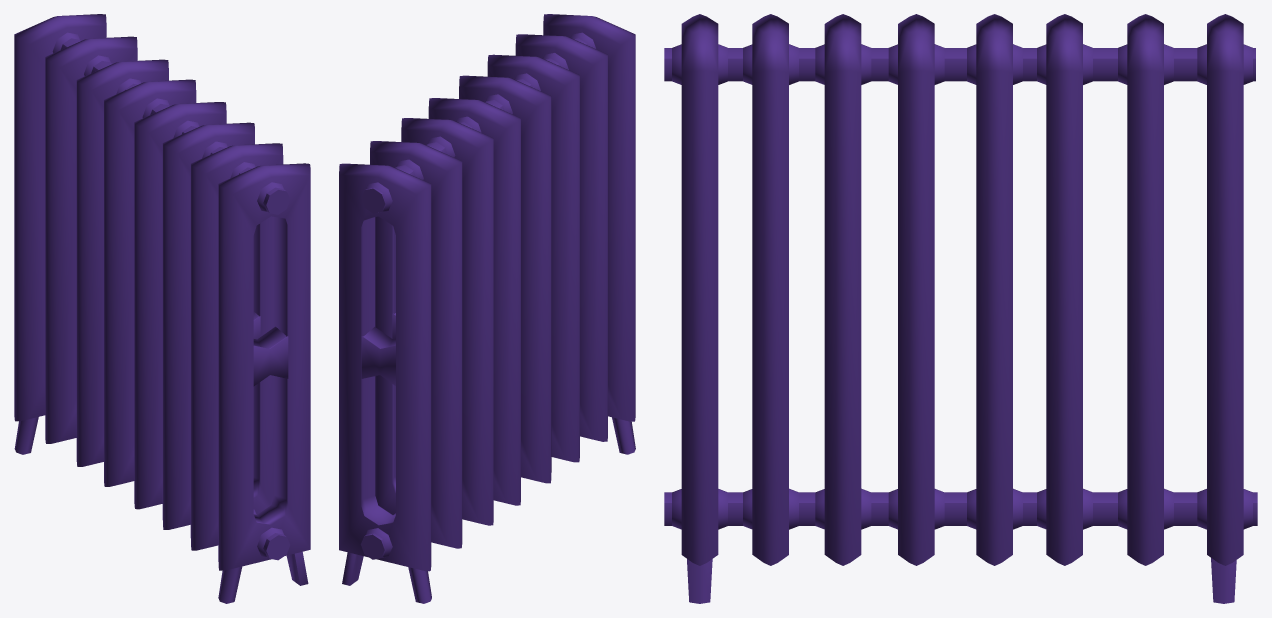
The model's file is heater3_low.fbx.
3 renders of one model, left to right at view 1: azimuth 30°, elevation 25°; view 2: azimuth 150°, elevation 25°; view 3: azimuth 270°, elevation 25°, orthographic. The views are drawn at different scales.
Visible parts, largest first — view 1: heater_final_low; view 2: heater_final_low; view 3: heater_final_low.
Part boxes in pixels (x1,y1,x2,y2): heater_final_low: [14, 14, 310, 603]; heater_final_low: [339, 14, 635, 603]; heater_final_low: [664, 14, 1257, 603].
Size of the model in its own units: 0.1551 by 0.6916 by 0.6808.
